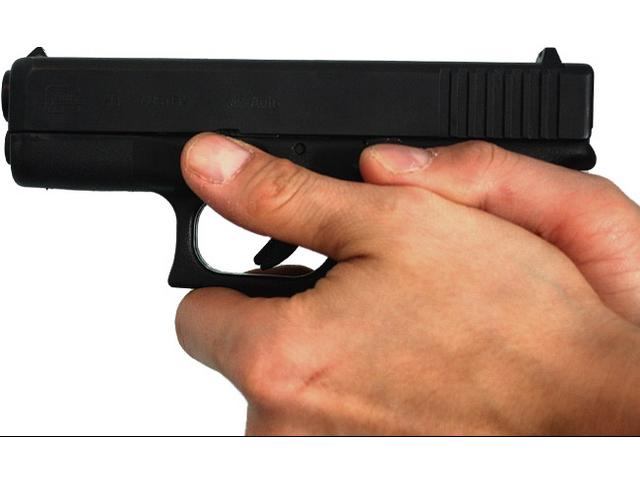pistol: (1, 51, 598, 372)
